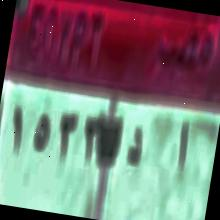1: (6, 99, 30, 163)
3: (50, 96, 80, 172), (75, 102, 106, 170)
5: (25, 104, 55, 166)
alif: (165, 115, 196, 185)
daal: (122, 119, 149, 182)
